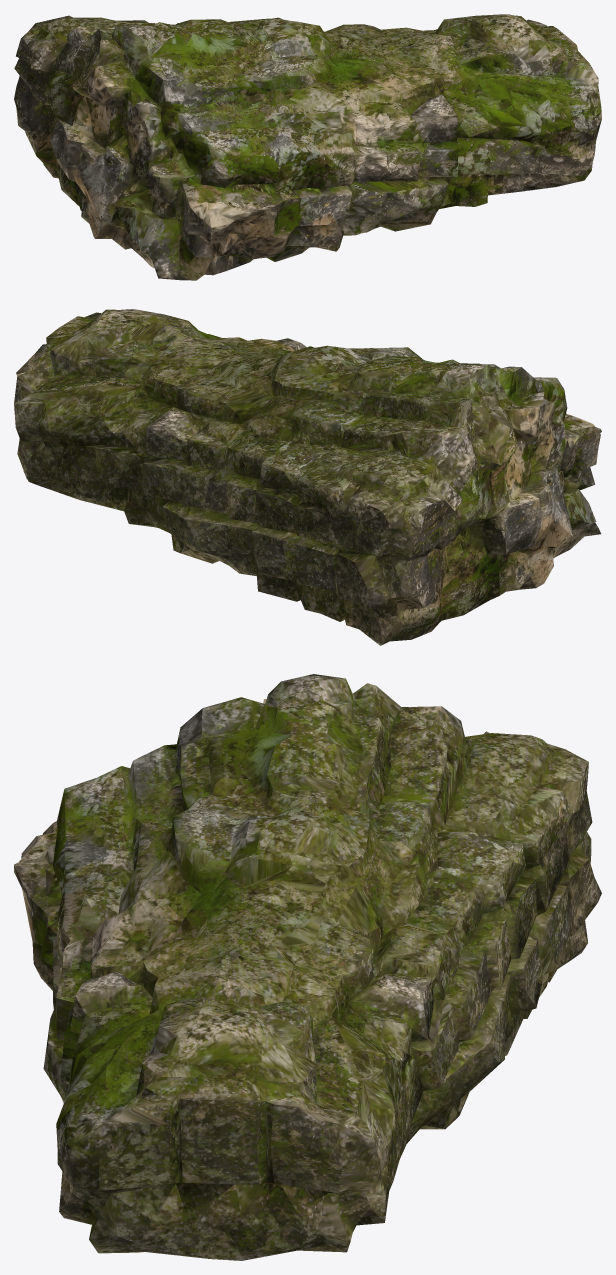
File: ROC_RocaMusgo_02_LOD1.fbx
The picture shows the model from 3 angles, top to bottom: view 1: azimuth 30°, elevation 25°; view 2: azimuth 150°, elevation 25°; view 3: azimuth 270°, elevation 25°; orthographic projection. The views are drawn at different scales.
Visible parts, largest first — view 1: ROC_RocaMusgo_02_Mesh000; view 2: ROC_RocaMusgo_02_Mesh000; view 3: ROC_RocaMusgo_02_Mesh000.
Boxes of the visible parts, <box> form: ROC_RocaMusgo_02_Mesh000: <box>14,14,601,280</box>; ROC_RocaMusgo_02_Mesh000: <box>14,309,601,645</box>; ROC_RocaMusgo_02_Mesh000: <box>14,674,601,1260</box>.
Bounding box in the file's own units: 3.2 × 1.28 × 2.3.
